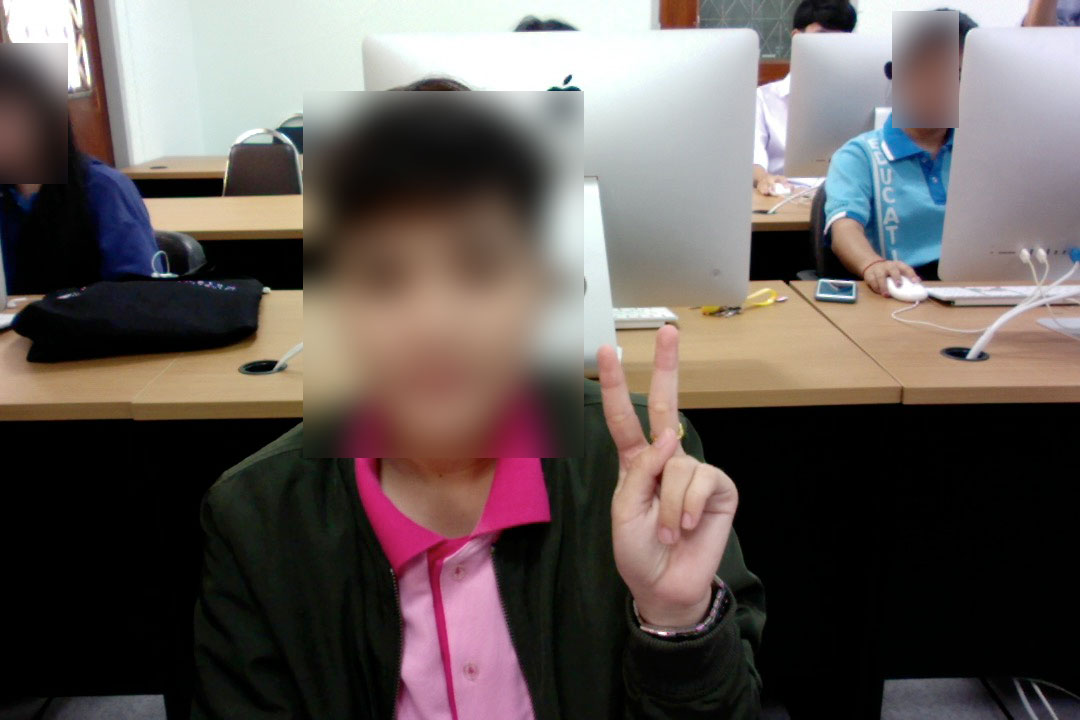ko: (592, 319, 741, 625)
